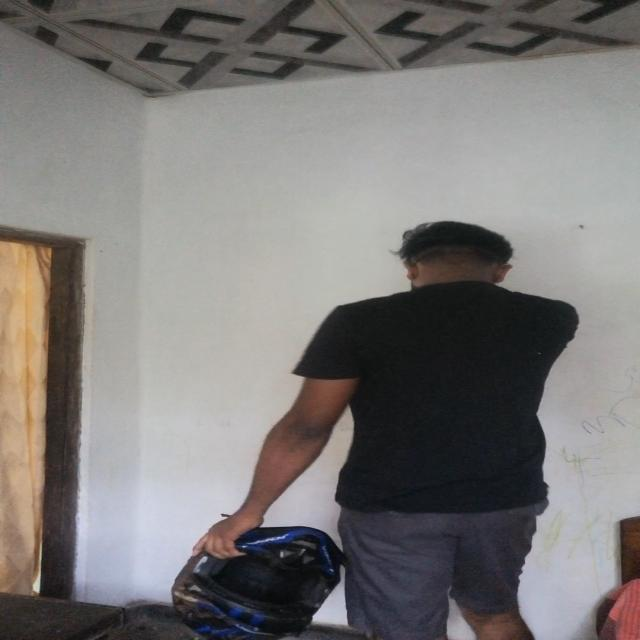Person: (261, 212, 582, 640)
